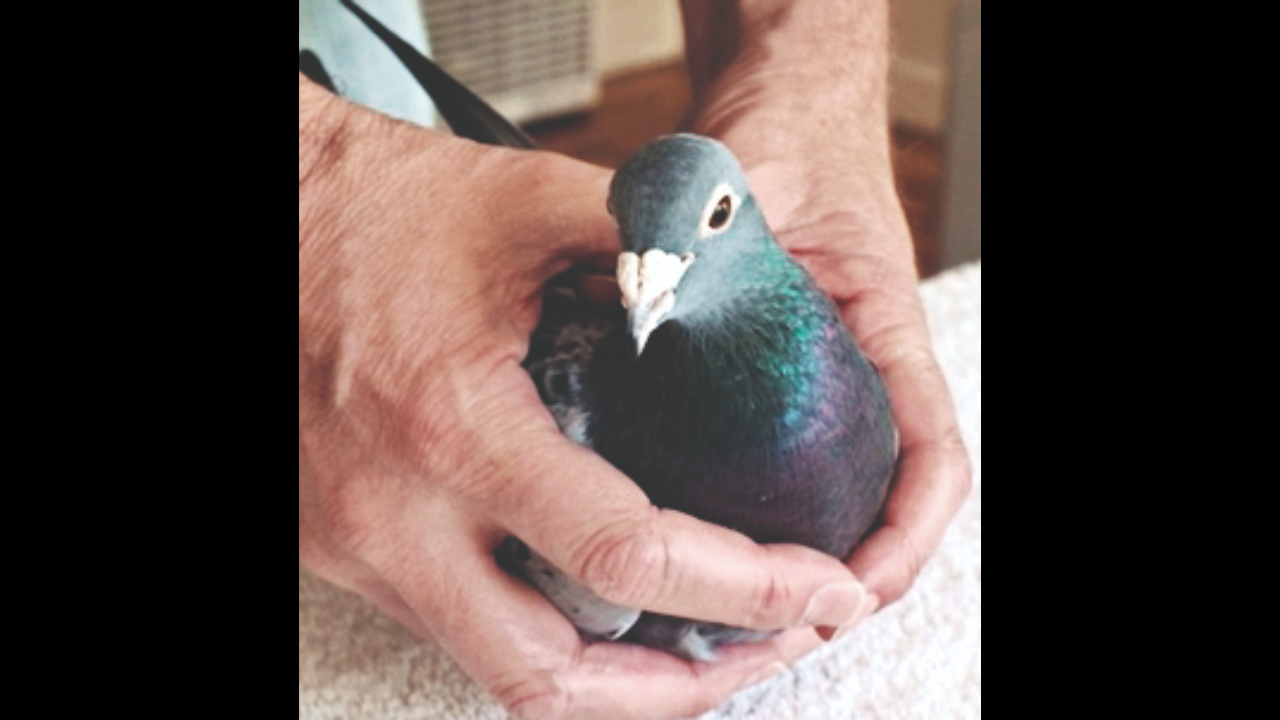Flying Rat: (535, 160, 908, 532)
